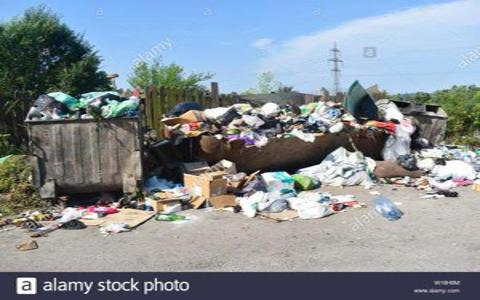overflowing garbage: (21, 86, 174, 224), (363, 99, 450, 201)
